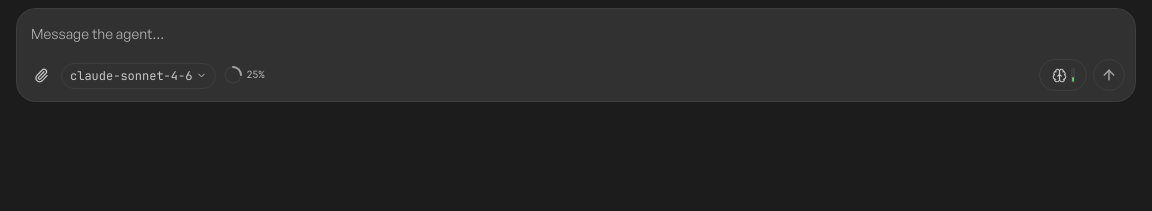
Composer › popover dismissal › closes the effort popover on an outside click without committing
Click the button with test id "effort-chip" at (1063, 75), box [1039,59,1087,91]
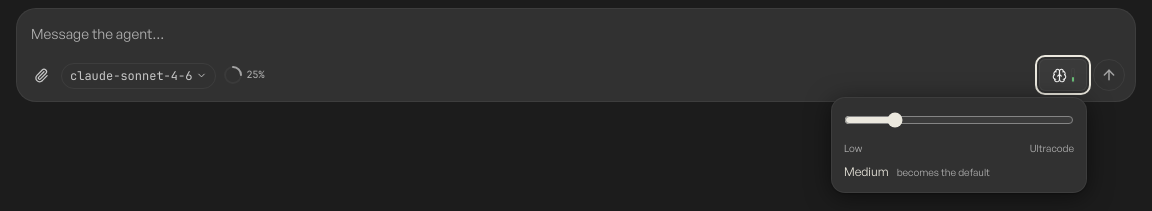
# Vorschau verschieben, dann daneben klicken: nichts darf gesendet werden.
Set the slider with test id "effort-slider" to "5" at (1066, 120), box [844,112,1074,128]
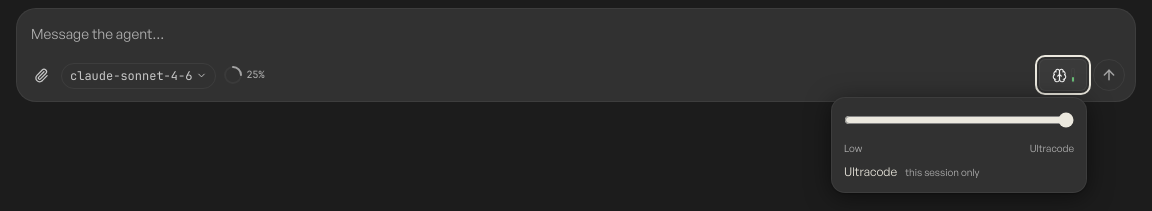
Click the text box with placeholder "Message the agent…" at (576, 31), box [17,9,1135,53]
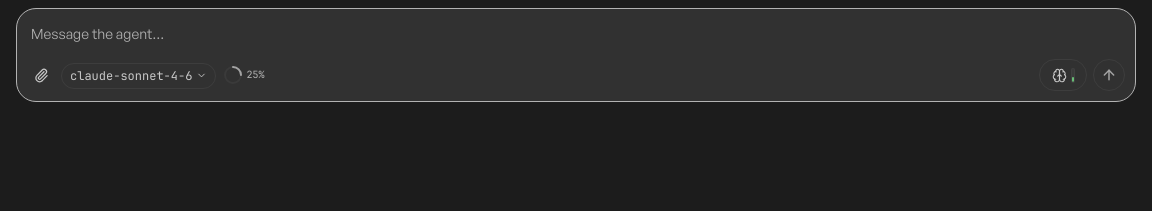
Expected: the slider with test id "effort-slider" is gone
